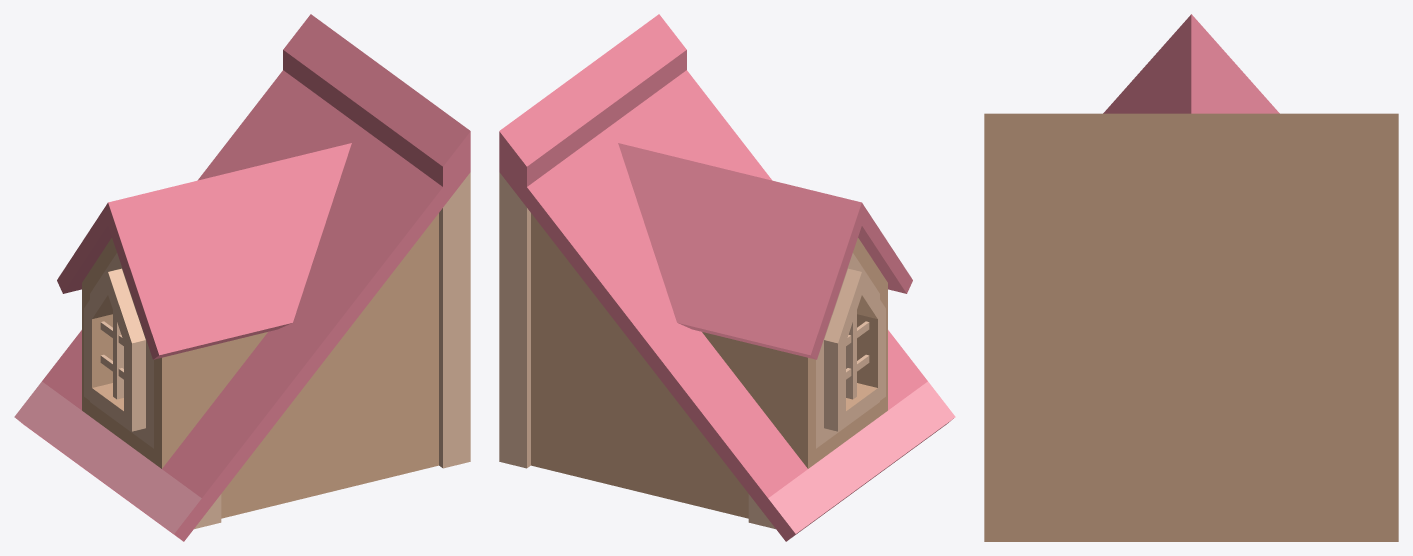
The picture shows the model from 3 angles, left to right: view 1: azimuth 30°, elevation 25°; view 2: azimuth 150°, elevation 25°; view 3: azimuth 270°, elevation 25°; orthographic projection. The views are drawn at different scales.
Visible parts, largest first — view 1: roofHighWindow; view 2: roofHighWindow; view 3: roofHighWindow.
Part boxes in pixels (x1=…): roofHighWindow: x1=14, y1=14, x2=470, y2=541; roofHighWindow: x1=499, y1=14, x2=955, y2=541; roofHighWindow: x1=984, y1=14, x2=1398, y2=541.
Bounding box in the file's own units: 1.07 × 1.18 × 1.
